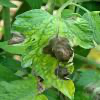Tomato leaf late blight: (7, 6, 92, 98)
